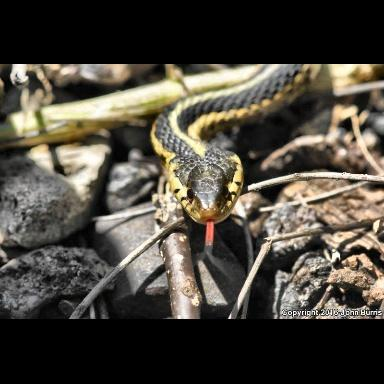snake: (150, 65, 332, 251)
